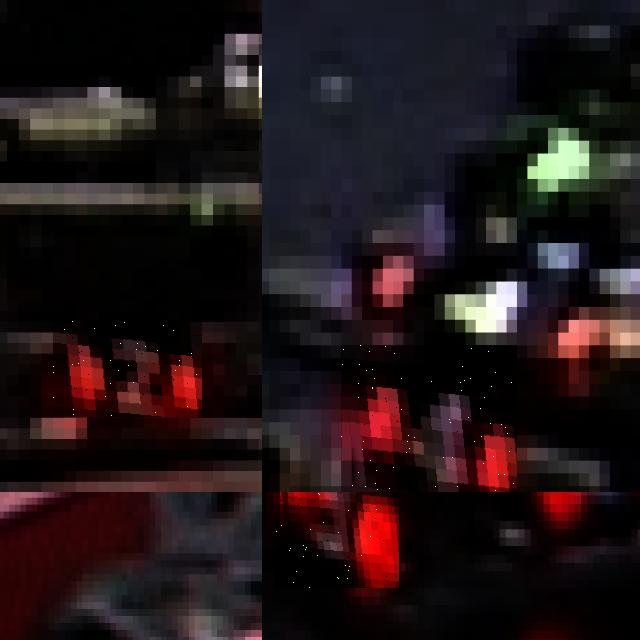R2: (53, 322, 202, 418)
R3: (273, 492, 399, 588)
R4: (372, 218, 610, 358), (341, 345, 516, 492)
